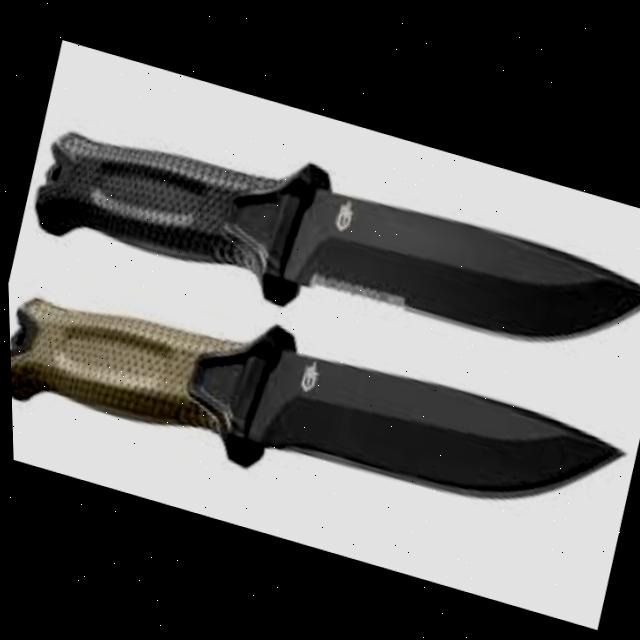knife: (6, 247, 636, 565), (25, 85, 640, 400)
